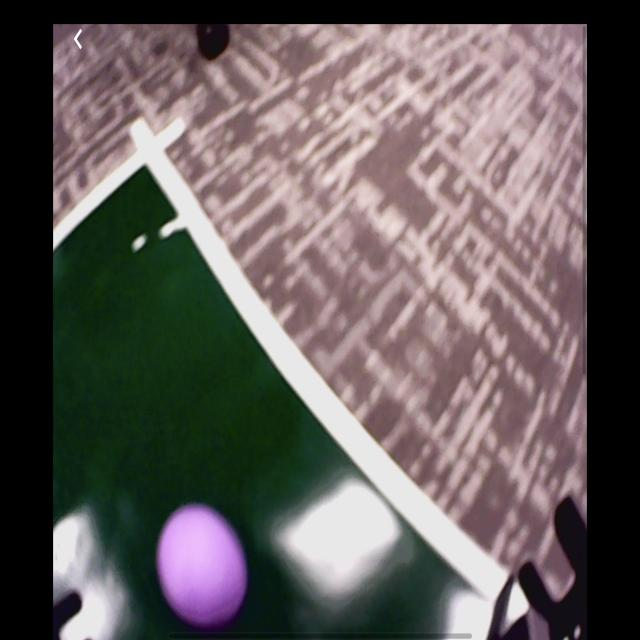ball: (158, 504, 247, 631)
